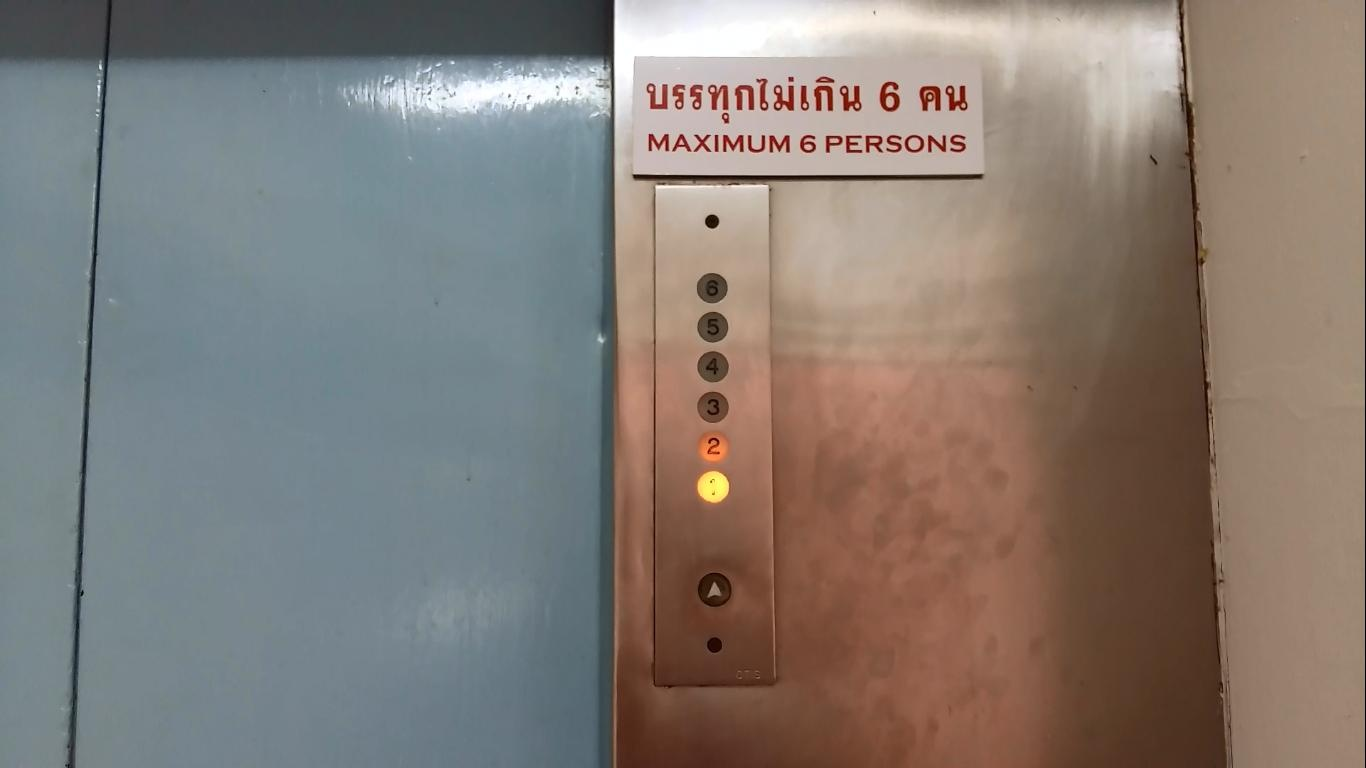1: (697, 471, 730, 503)
2: (697, 431, 730, 463)
3: (697, 391, 730, 423)
4: (696, 350, 729, 383)
5: (697, 311, 728, 343)
6: (696, 272, 728, 304)
up: (697, 573, 733, 608)
